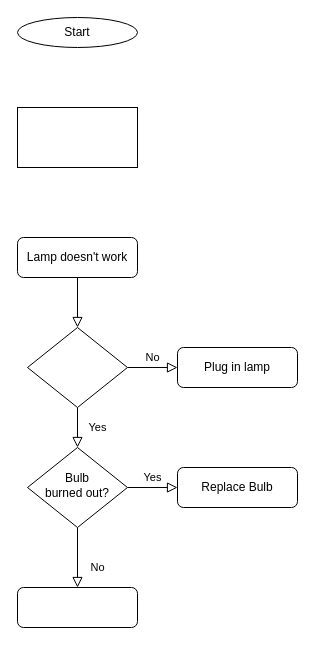
The diagram is 315 pixels wide and 645 high, and some of its shapes have lost their labels. The centre of each missing label's shape, as x and y in pixels:
"Declare Variables" belongs at (x=77, y=137).
"Lamp plugged in?" belongs at (x=77, y=367).
"Repair Lamp" belongs at (x=77, y=607).
